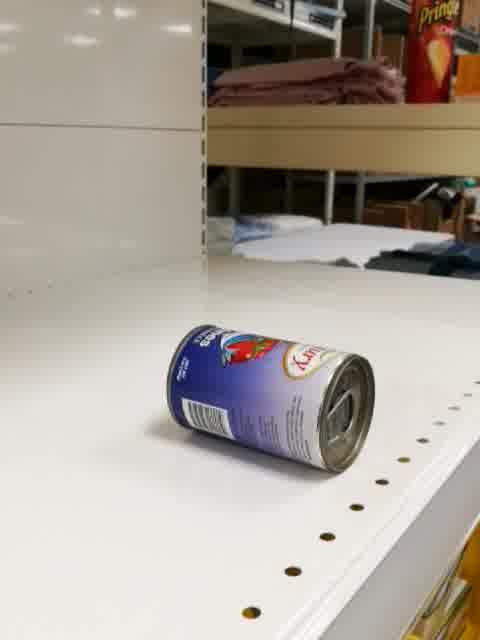sardine: (165, 324, 376, 476)
